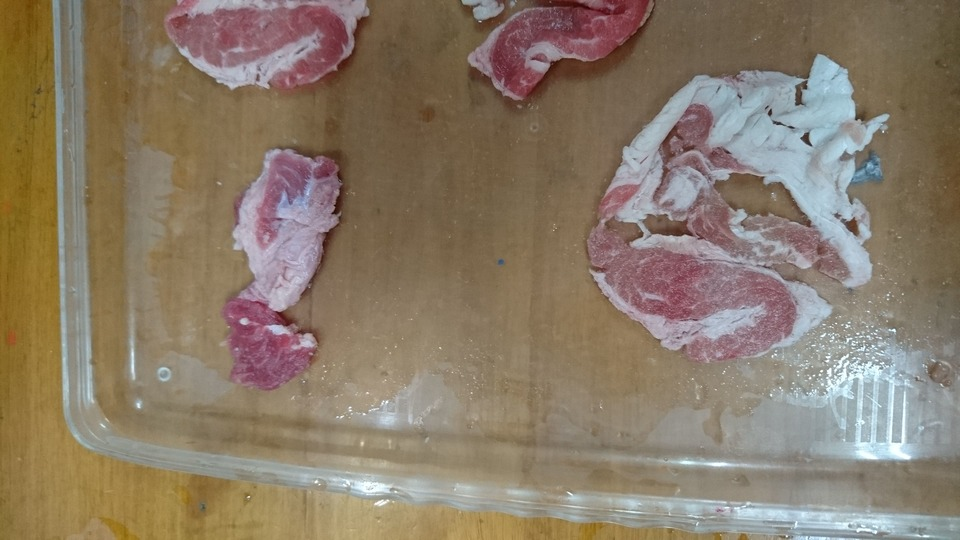restructured meat: (592, 50, 891, 370), (220, 142, 345, 393)
